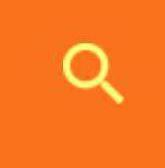ImgButton: (1, 1, 164, 167)
